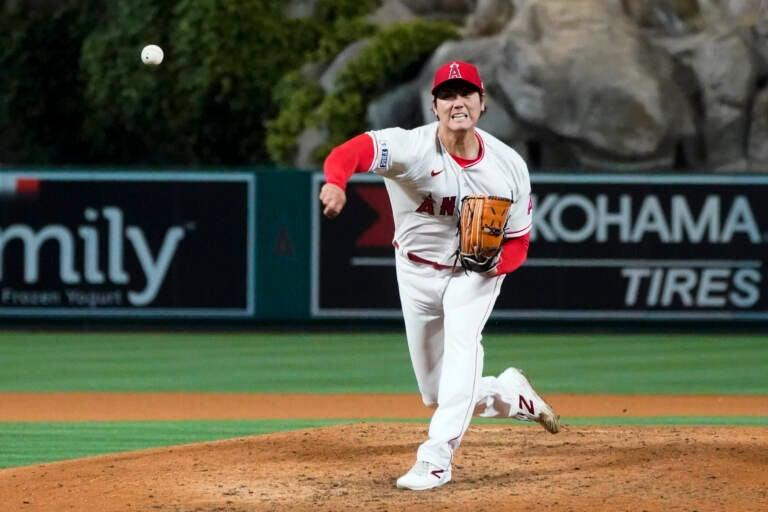baseball: (142, 44, 165, 68)
